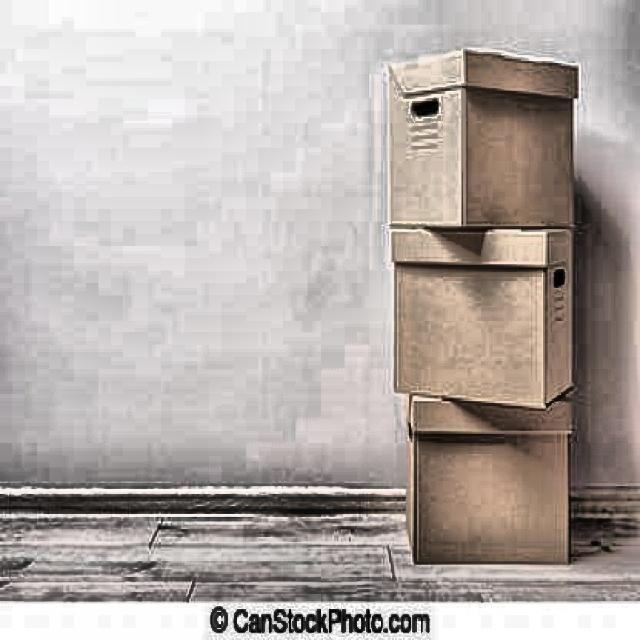Cardbox: (362, 213, 584, 410), (374, 382, 582, 560), (380, 57, 592, 229)
